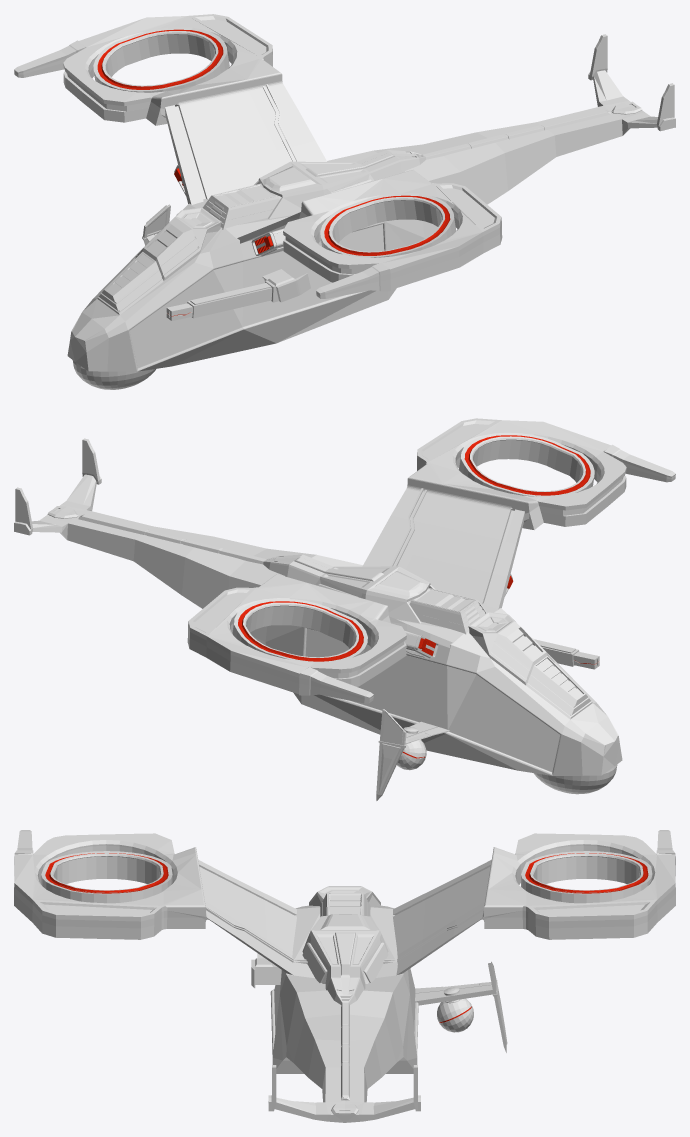
File: helicopter.fbx
3 views of the same model, one above another, from view 1: azimuth 30°, elevation 25°; view 2: azimuth 150°, elevation 25°; view 3: azimuth 270°, elevation 25° (orthographic). The views are drawn at different scales.
Visible parts, largest first — view 1: Body, Wings.001, R_Wing, Helices, Core_3, Core_1, Cannon, Core_2, Propulsors, L_Supoort; view 2: Body, R_Wing, Wings.001, Helices, Core_3, Core_1, L_Supoort, Core_2, Cannon, Propulsors, L_Ball; view 3: Body, Wings.001, R_Wing, Helices, Core_3, L_Supoort, Core_2, L_Ball, Cannon, Core_1, R_Wing_Decoration.
Boxes of the visible parts, x1,y1,x2,y2 form: Body: (67, 34, 675, 389); Wings.001: (14, 14, 326, 204); R_Wing: (237, 170, 502, 298); Helices: (93, 27, 456, 257); Core_3: (254, 109, 610, 218); Core_1: (97, 207, 221, 314); Cannon: (166, 269, 310, 320); Core_2: (202, 183, 279, 229); Propulsors: (174, 165, 285, 256); L_Supoort: (142, 204, 170, 245); Body: (14, 438, 622, 794); R_Wing: (362, 418, 675, 609); Wings.001: (187, 574, 452, 703); Helices: (232, 433, 594, 661); Core_3: (78, 514, 435, 623); Core_1: (468, 612, 592, 719); L_Supoort: (376, 709, 449, 800); Core_2: (409, 588, 486, 634); Cannon: (534, 639, 599, 669); Propulsors: (404, 574, 513, 658); L_Ball: (397, 739, 426, 770); Body: (268, 905, 420, 1122); Wings.001: (393, 830, 675, 975); R_Wing: (14, 830, 296, 975); Helices: (41, 851, 652, 903); Core_3: (302, 914, 388, 1100); L_Supoort: (415, 961, 507, 1052); Core_2: (320, 893, 370, 916); L_Ball: (437, 998, 473, 1032); Cannon: (251, 953, 281, 988); Core_1: (309, 886, 380, 905); R_Wing_Decoration: (205, 906, 307, 963).
Size of the model in its own units: 2484 by 894 by 2382.
